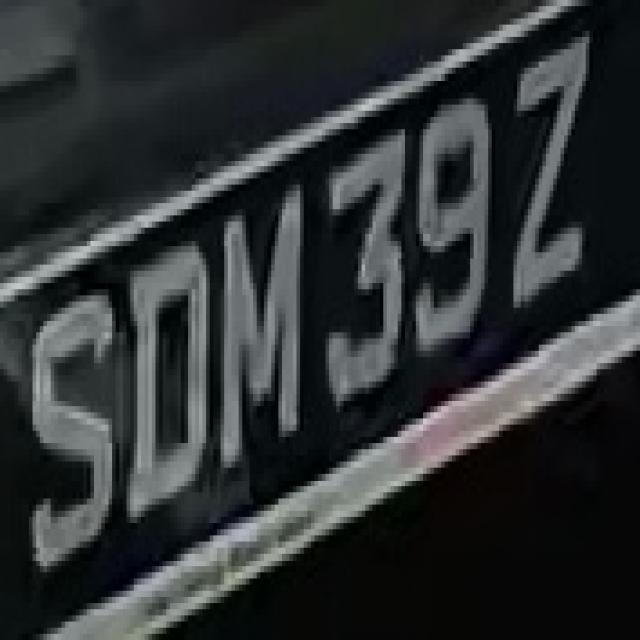3: (311, 117, 416, 400)
9: (398, 92, 495, 382)
D: (112, 247, 221, 536)
M: (206, 172, 315, 462)
S: (26, 270, 120, 584)
Z: (499, 31, 604, 326)
